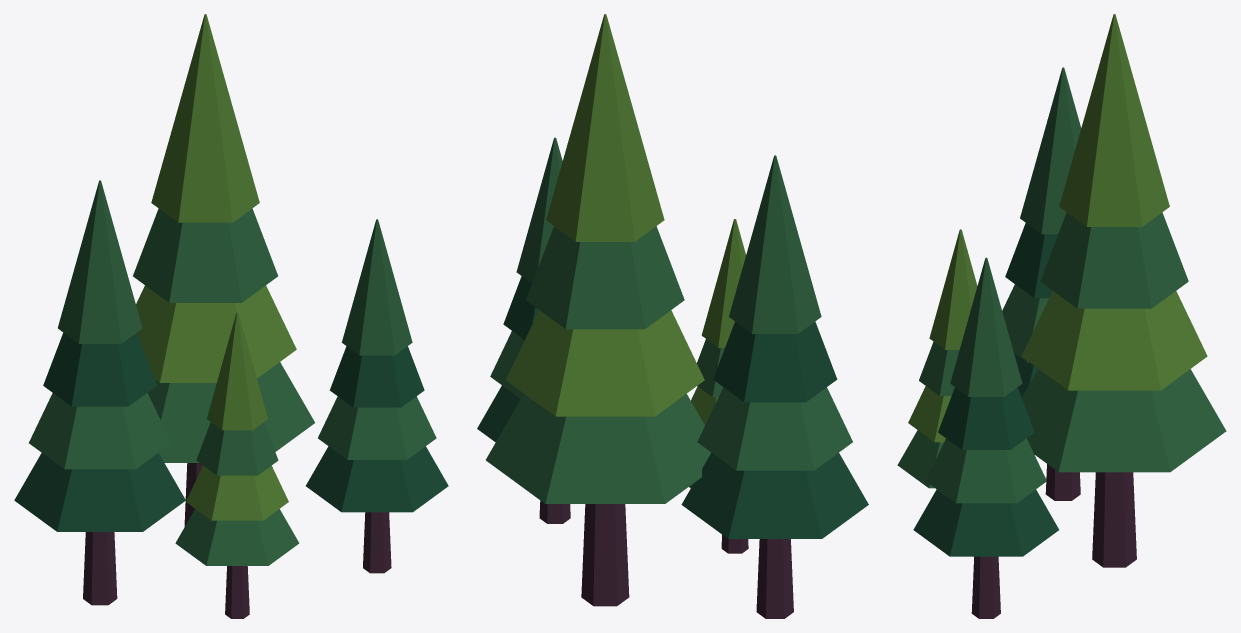
The model's file is grove_pines.glb.
The picture shows the model from 3 angles, left to right: view 1: azimuth 30°, elevation 25°; view 2: azimuth 150°, elevation 25°; view 3: azimuth 270°, elevation 25°; orthographic projection. The views are drawn at different scales.
Parts seen in each view (by area): view 1: grove_pines; view 2: grove_pines; view 3: grove_pines.
Boxes of the visible parts, x1=… form: grove_pines: x1=14, y1=14, x2=448, y2=618; grove_pines: x1=477, y1=14, x2=868, y2=618; grove_pines: x1=897, y1=14, x2=1226, y2=618.
Size of the model in its own units: 16.43 by 23.46 by 12.84.
